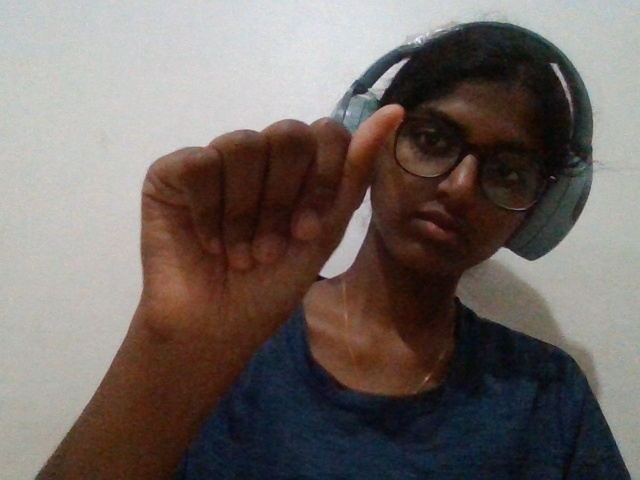A: (86, 87, 415, 390)
